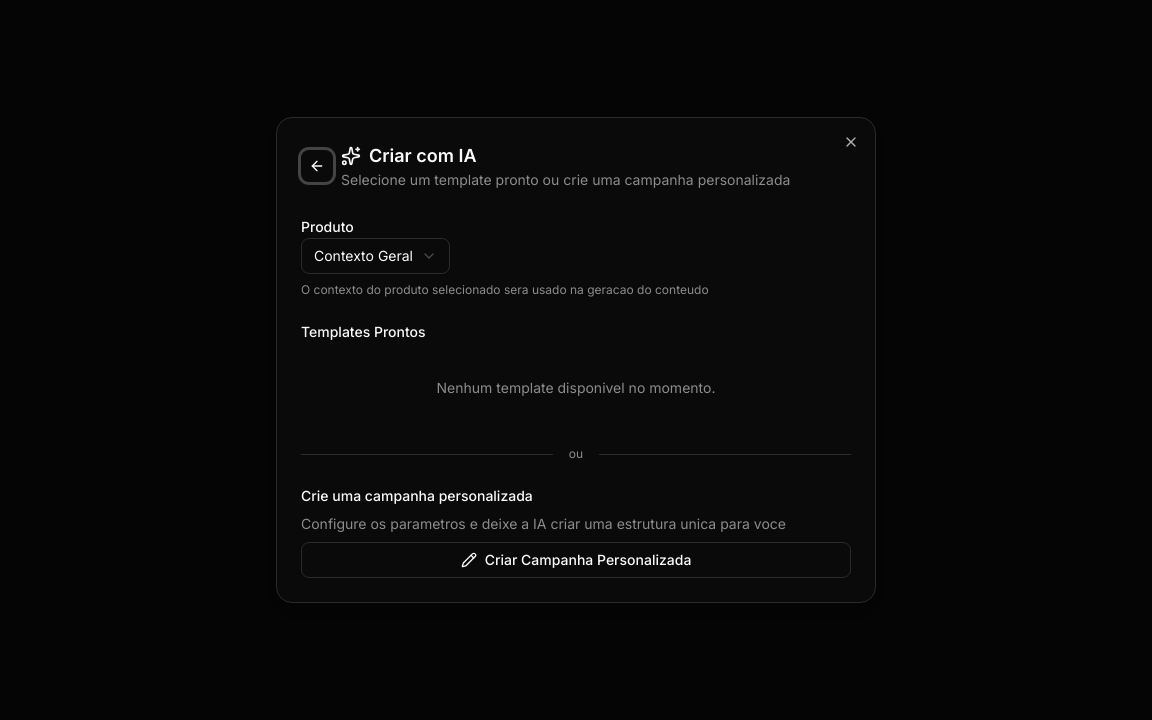
Test: AI Full Campaign Generation Integration › Wizard Flow (AC #1, #2, #7) › shows strategy summary after structure generation
The width and height of the screenshot is (1152, 720).
Click the button with test id "template-custom-button" at {"x": 576, "y": 560}, box [301,542,851,578]
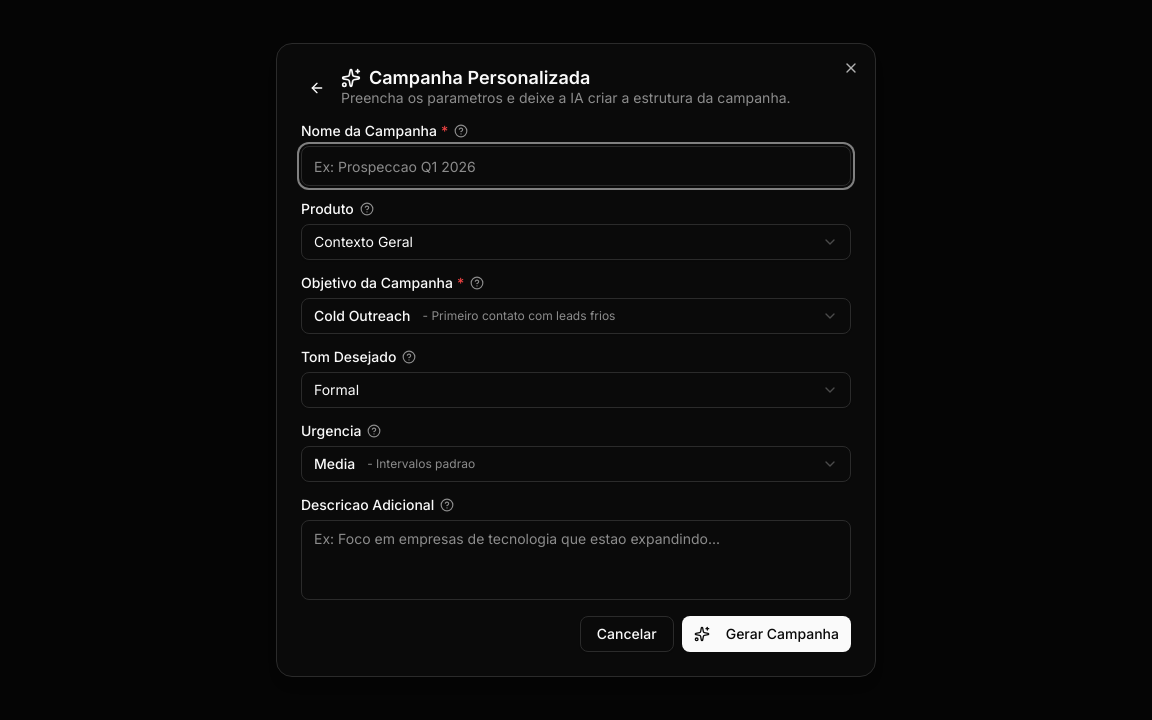
Expected: the field with test id "wizard-campaign-name" is shown
Type "Test Campaign" into the field with test id "wizard-campaign-name" at {"x": 576, "y": 166}, box [301,146,851,186]
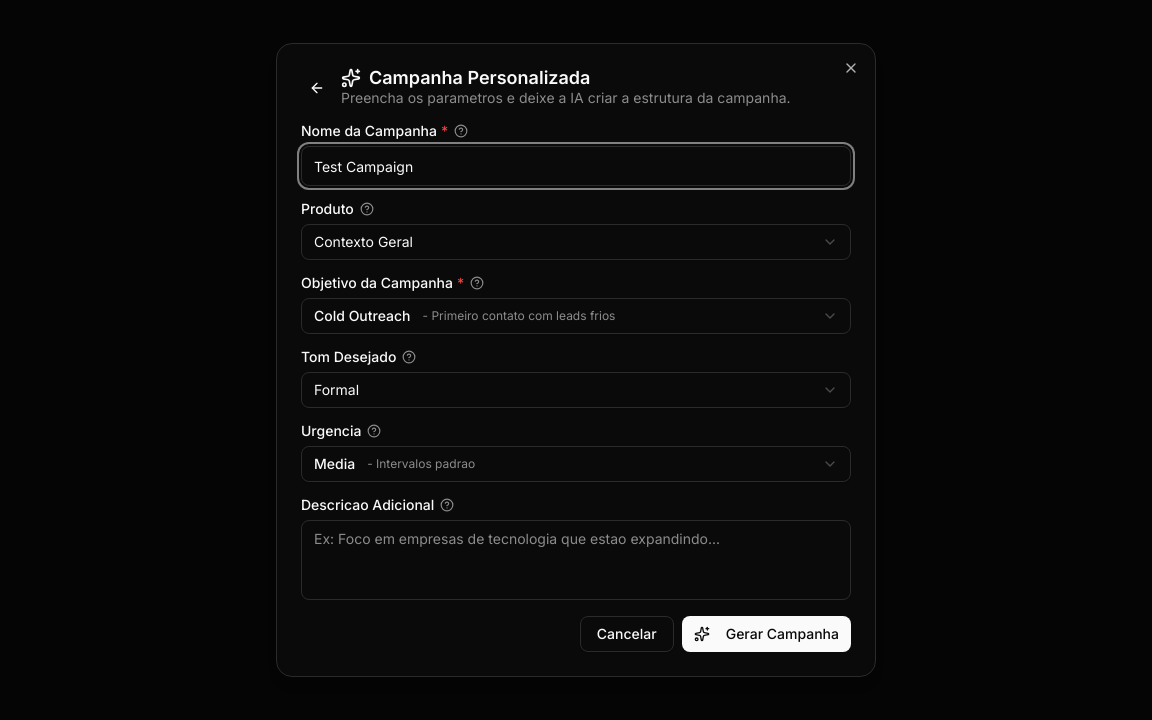
Click the button with test id "generate-campaign-submit" at {"x": 766, "y": 634}, box [682,616,851,652]
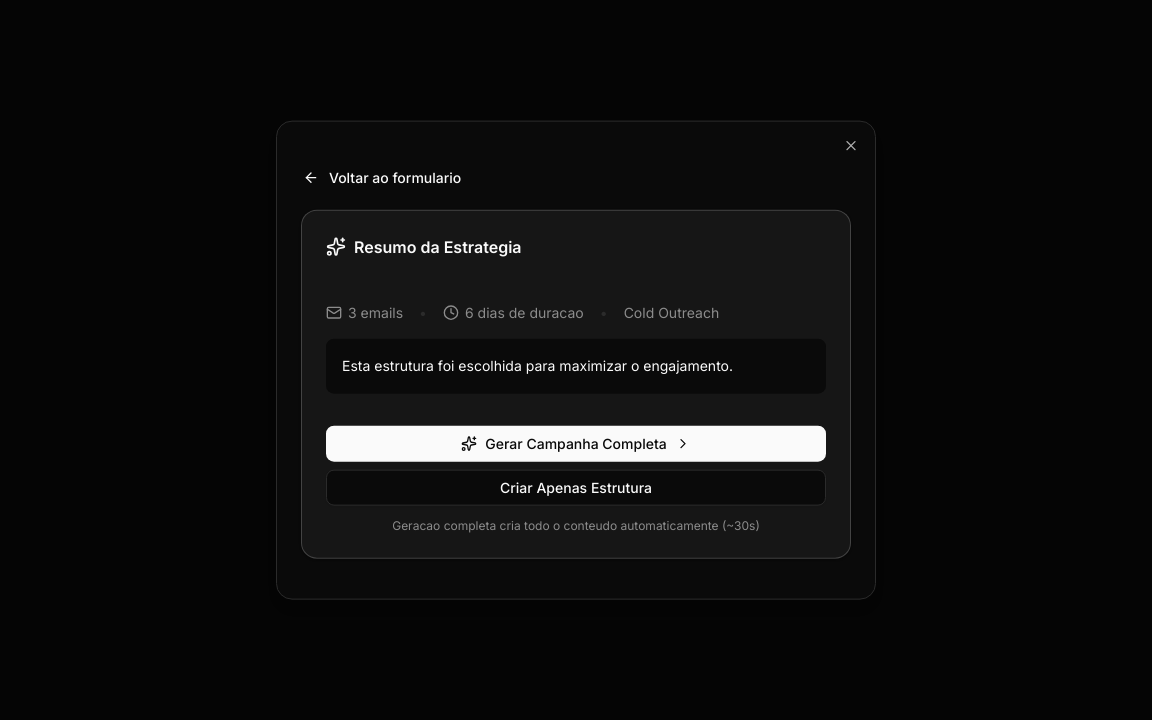
Expected: the element with test id "strategy-summary" is shown, [301,146,851,574]
Expected: the text with test id "strategy-rationale" reads "Esta estrutura foi escolhida para maximizar o engajamento.", [342,357,733,374]
Expected: the element with test id "strategy-email-count" reads "3 emails", [326,303,403,323]
